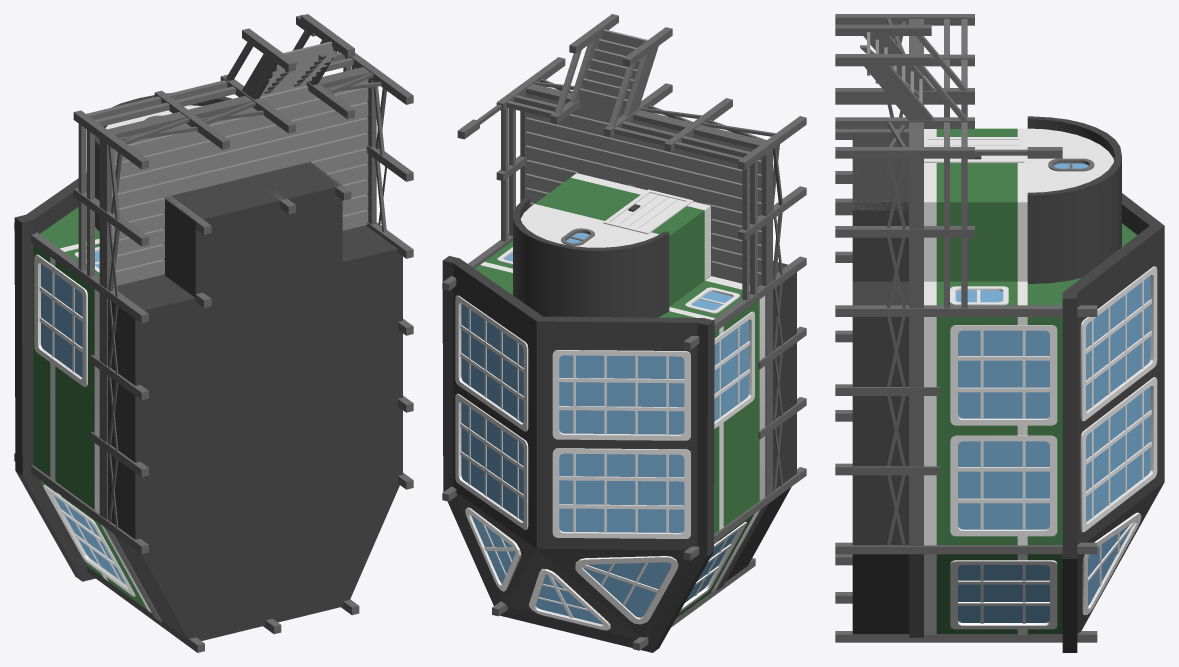
The model's file is Greenhouse.fbx.
3 views of the same model, side by side, from view 1: azimuth 30°, elevation 25°; view 2: azimuth 150°, elevation 25°; view 3: azimuth 270°, elevation 25° (orthographic). The views are drawn at different scales.
Visible parts, largest first — view 1: Greenhouse; view 2: Greenhouse, Greenhouse Door; view 3: Greenhouse, Greenhouse Door.
Boxes of the visible parts, bbox=[...] form: Greenhouse: bbox=[14, 14, 413, 652]; Greenhouse: bbox=[442, 14, 806, 652]; Greenhouse Door: bbox=[611, 193, 685, 230]; Greenhouse: bbox=[835, 14, 1164, 652]; Greenhouse Door: bbox=[927, 140, 1019, 159].
Size of the model in its own units: 1978 by 3735 by 1885.
